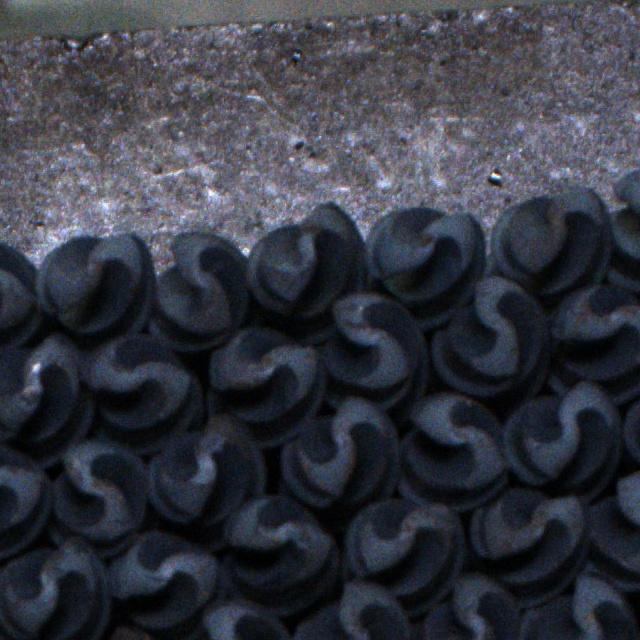tool_b: (246, 200, 367, 345), (431, 273, 547, 415), (150, 411, 266, 553), (363, 206, 489, 331), (280, 396, 400, 526), (318, 293, 430, 432), (500, 379, 620, 502), (344, 496, 465, 617), (84, 334, 205, 455), (221, 494, 341, 614), (206, 326, 324, 446), (469, 488, 585, 610), (32, 232, 153, 344), (491, 186, 609, 300), (395, 393, 506, 512), (108, 530, 226, 640), (148, 231, 251, 352), (0, 332, 94, 464), (46, 436, 148, 555), (545, 282, 640, 403), (0, 535, 109, 640), (517, 574, 637, 640), (291, 579, 414, 640), (585, 470, 640, 606), (409, 572, 516, 640), (0, 439, 51, 556)
